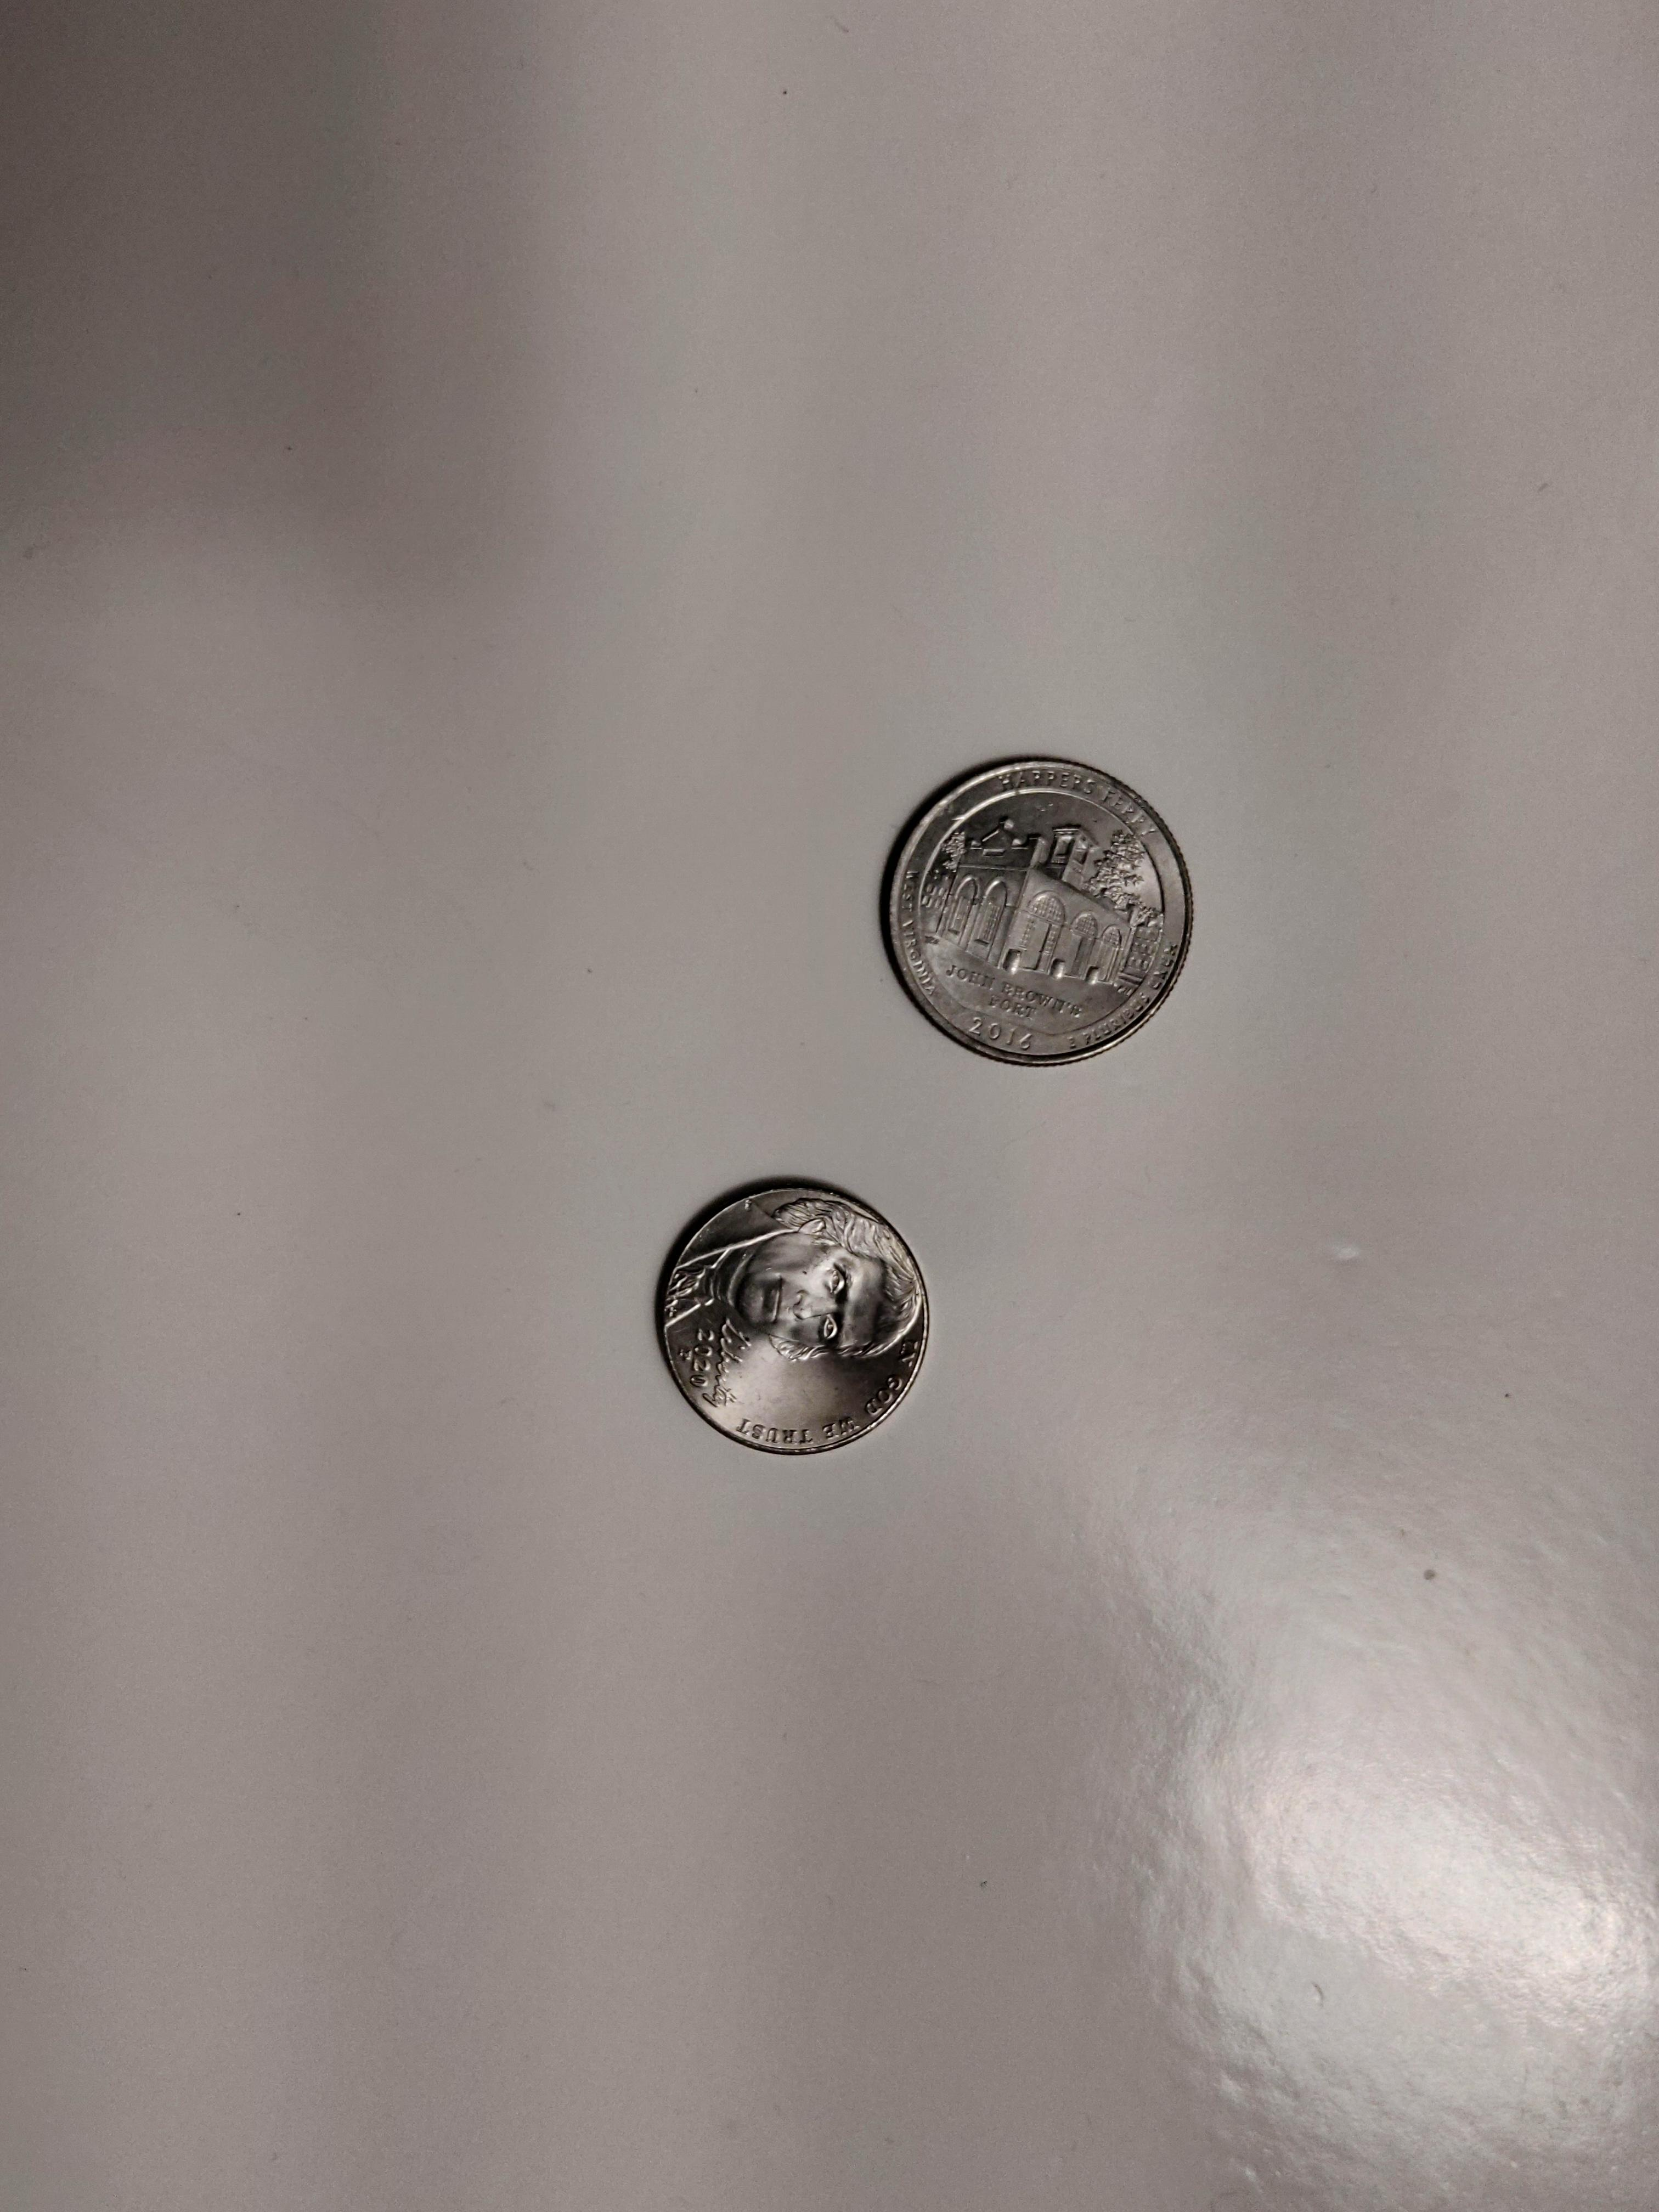Nickel: (652, 1177, 931, 1460)
Quarter: (882, 754, 1194, 1071)
